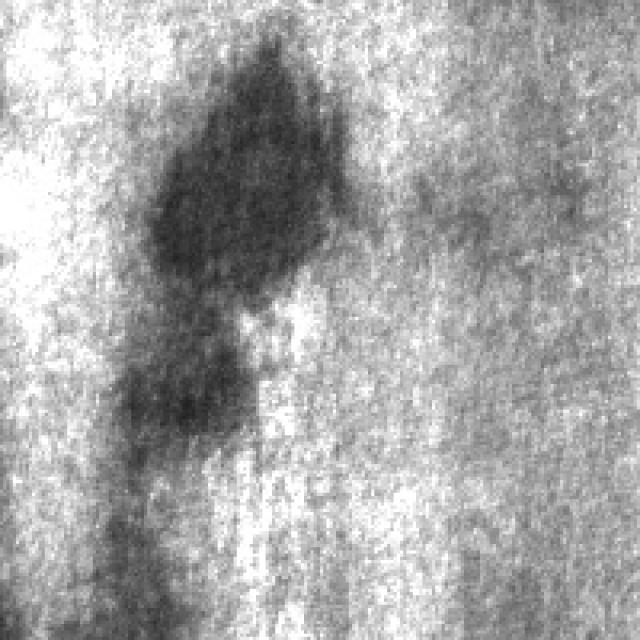patches: (134, 29, 336, 307), (99, 288, 256, 470), (70, 496, 196, 630)
